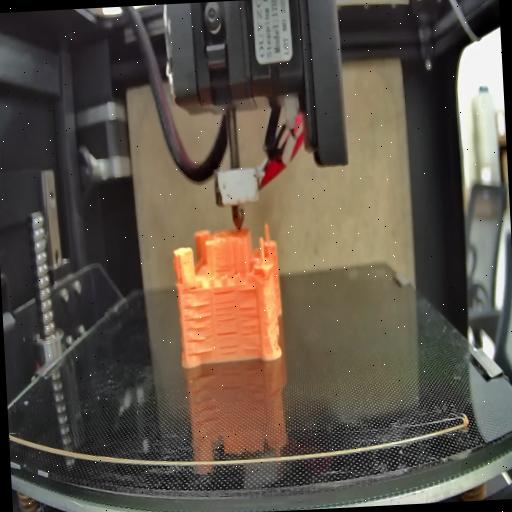cracks: (184, 303, 214, 358), (239, 306, 260, 350), (213, 290, 237, 326), (216, 330, 240, 358), (238, 282, 256, 296), (217, 262, 234, 276), (184, 280, 202, 293)
